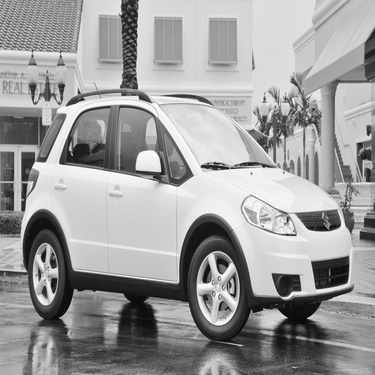car: (18, 75, 361, 322)
